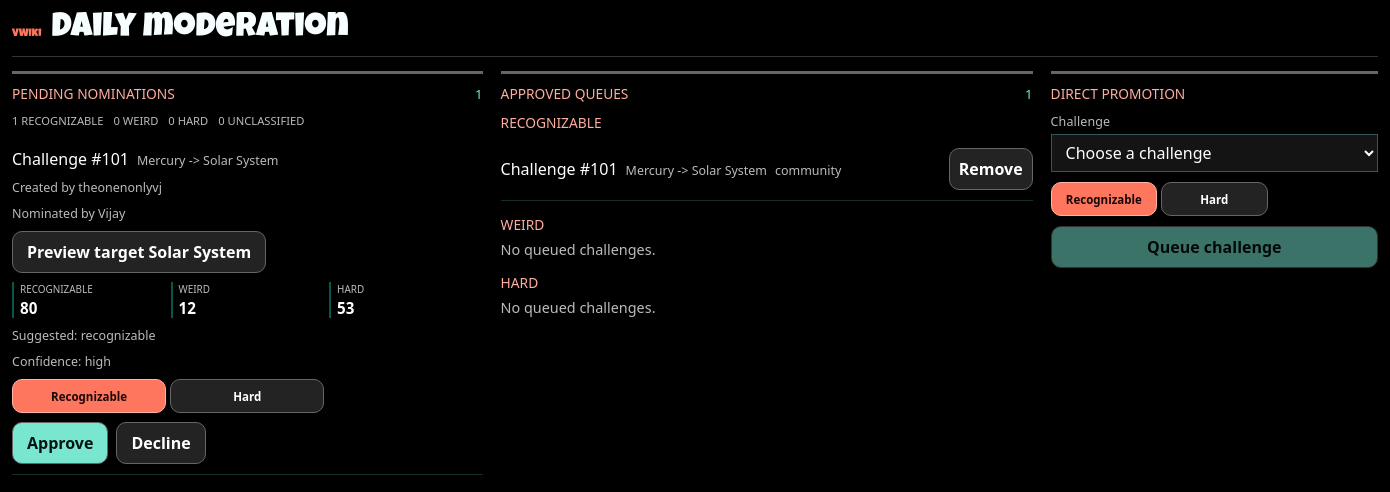
AdminDailies › declines nominations, removes queued entries, and directly promotes a challenge
This screenshot has width=1390, height=492.
Click the button with aria-label "Decline Challenge #101 Mercury to Solar System" at (161, 443), box [116, 422, 206, 464]
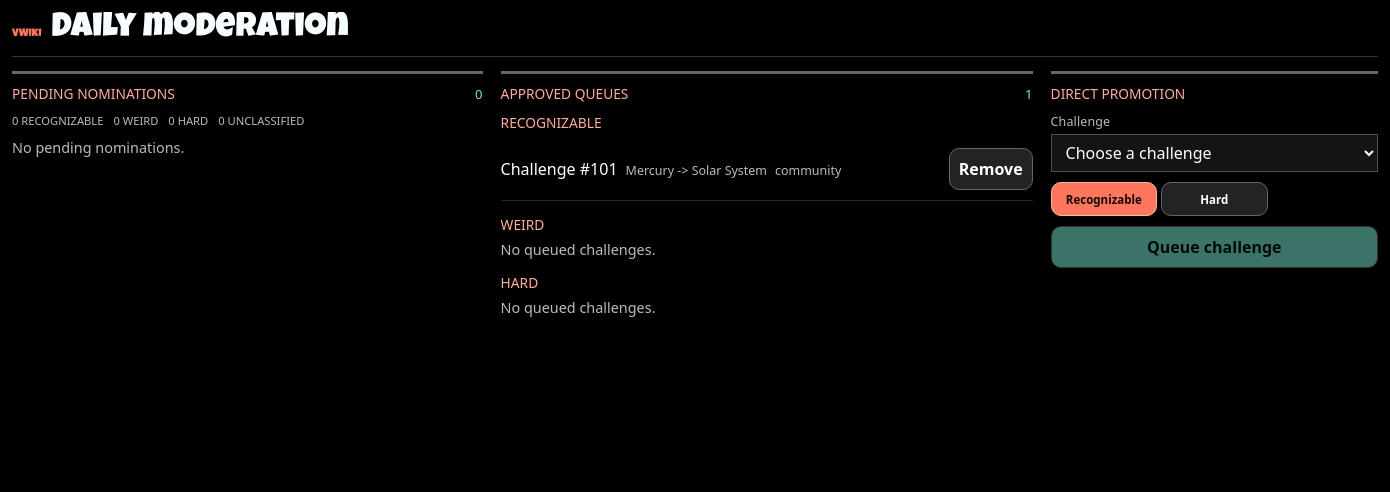
Click the button with aria-label "Remove Challenge #101 Mercury to Solar System" at (991, 169), box [949, 148, 1033, 190]
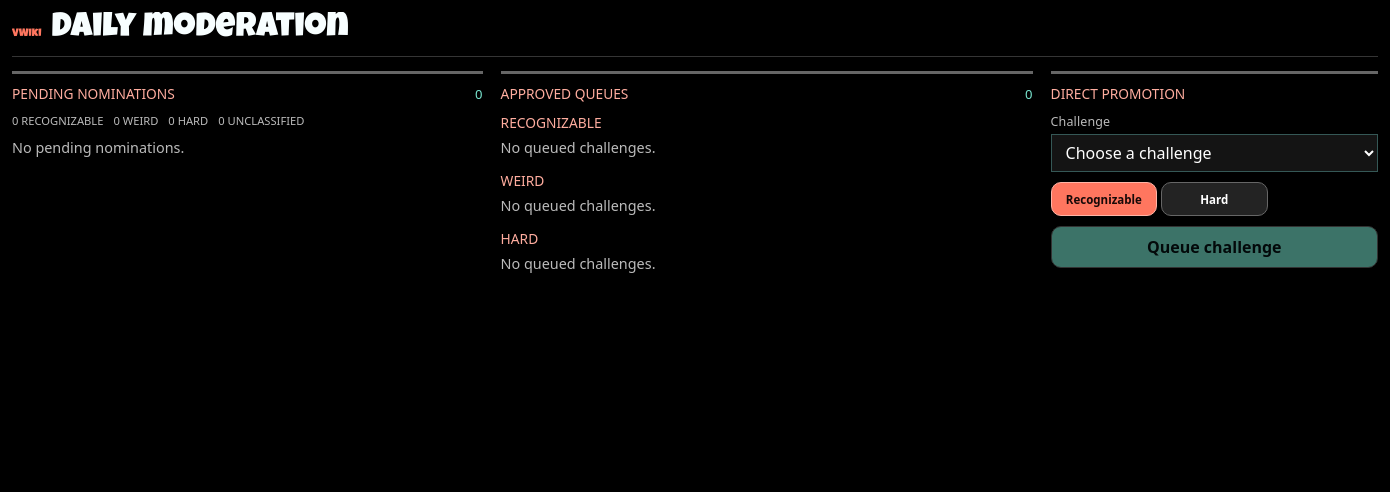
Select "Challenge #102: Coffee -> Moon" in the dropdown labelled "Challenge" at (1214, 153), box [1051, 134, 1378, 172]
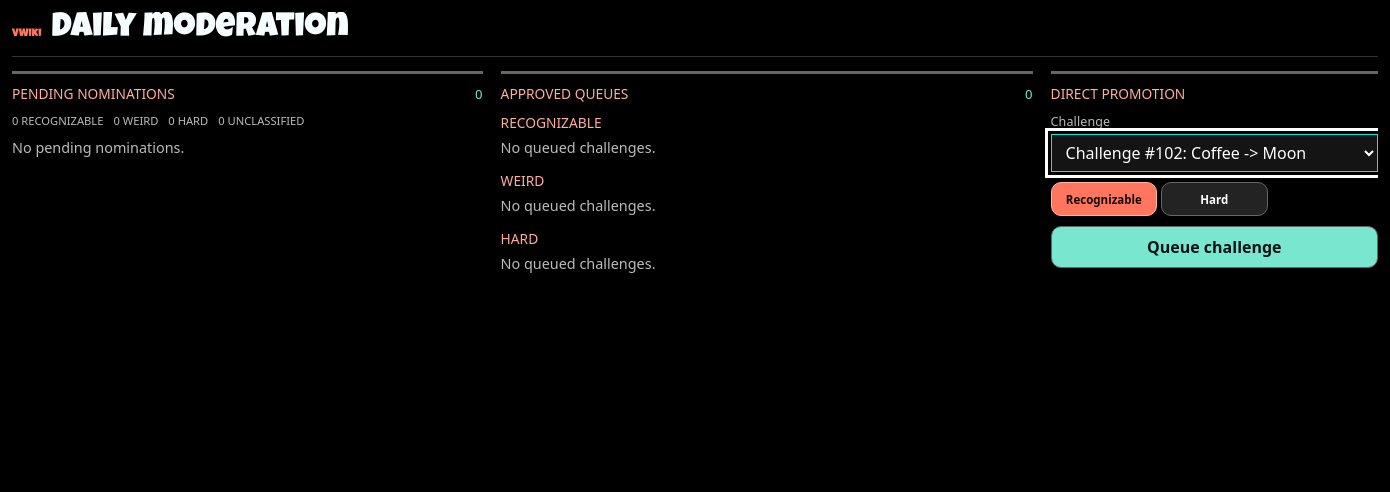
Click the button "Recognizable" at (1104, 199), box [1051, 182, 1157, 216]
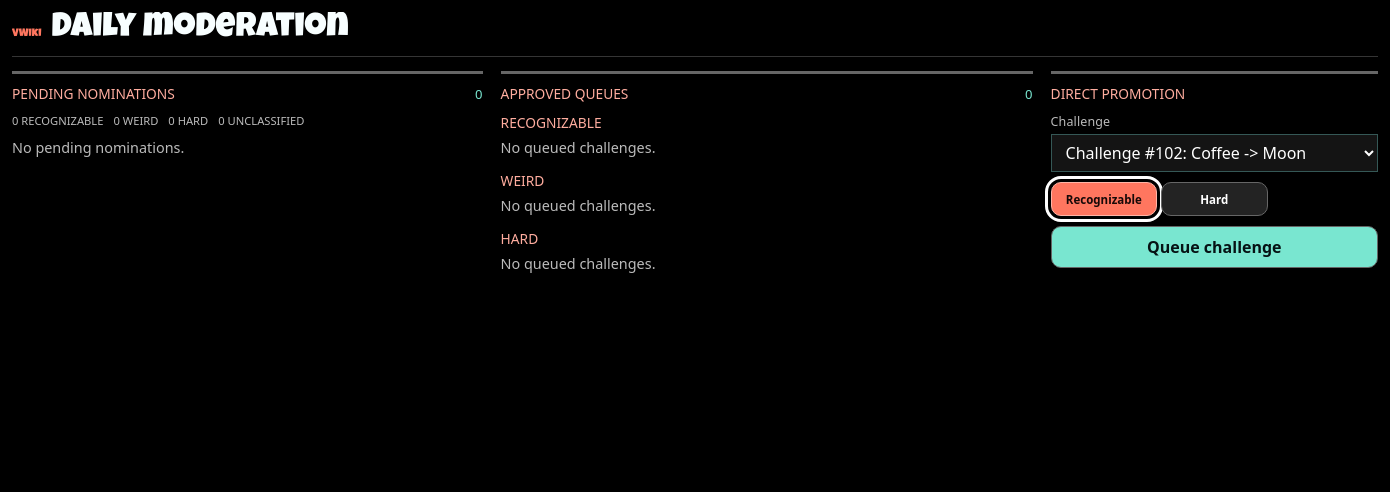
Click the button "Queue challenge" at (1214, 247), box [1051, 226, 1378, 268]
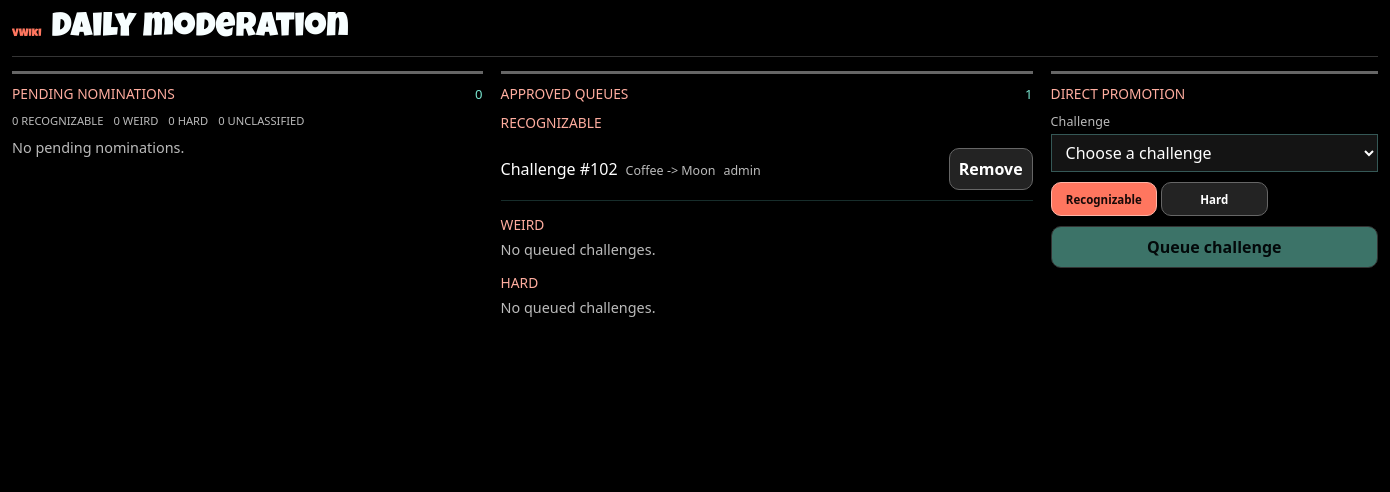
Expected: the text "Challenge #102" is shown, [501, 158, 618, 180]
